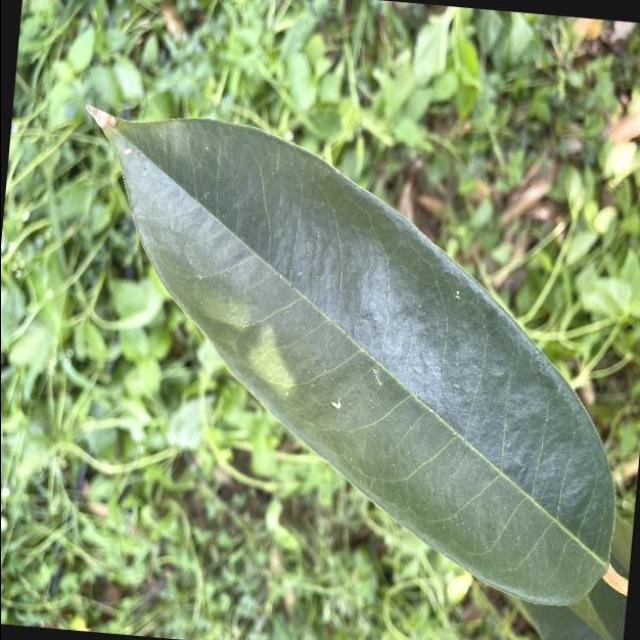No Disease: (38, 94, 640, 622)
